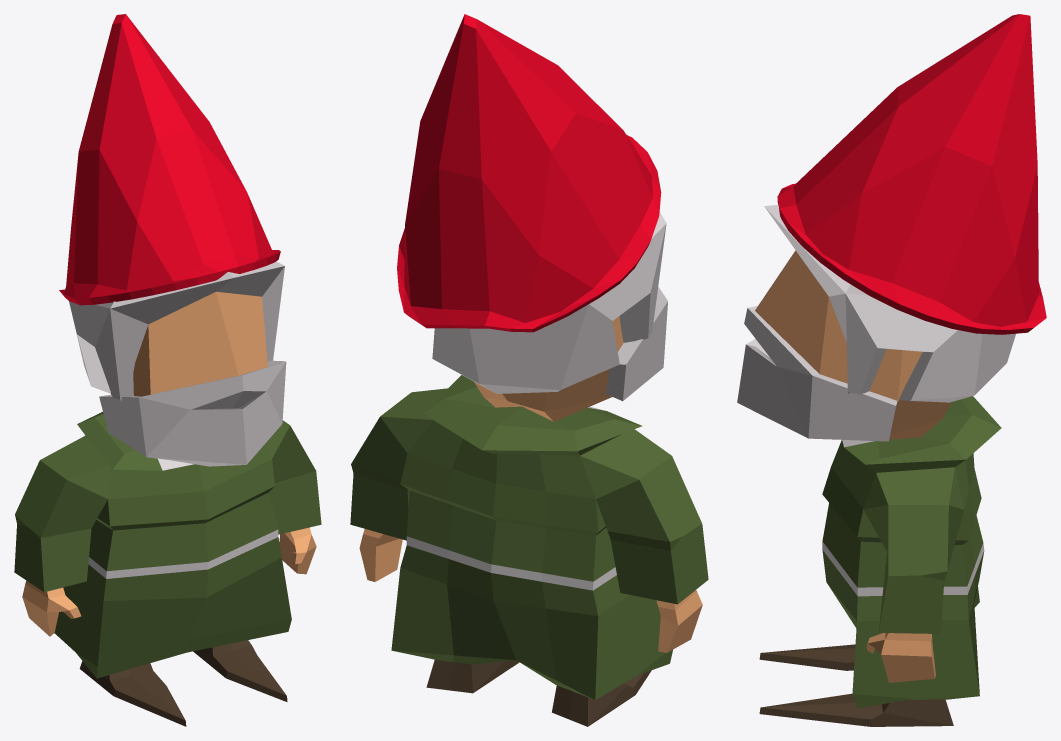
Rendered from gnome.fbx.
3 renders of one model, left to right at view 1: azimuth 30°, elevation 25°; view 2: azimuth 150°, elevation 25°; view 3: azimuth 270°, elevation 25°, orthographic. The views are drawn at different scales.
Parts seen in each view (by area): view 1: man-monk-old, Cube; view 2: man-monk-old, Cube; view 3: man-monk-old, Cube.
Boxes of the visible parts, bbox=[...] form: man-monk-old: bbox=[14, 261, 321, 726]; Cube: bbox=[59, 14, 280, 305]; man-monk-old: bbox=[350, 212, 708, 726]; Cube: bbox=[397, 14, 661, 332]; man-monk-old: bbox=[737, 205, 1015, 726]; Cube: bbox=[777, 14, 1046, 334].
Size of the model in its own units: 59.9 by 125 by 51.86.
